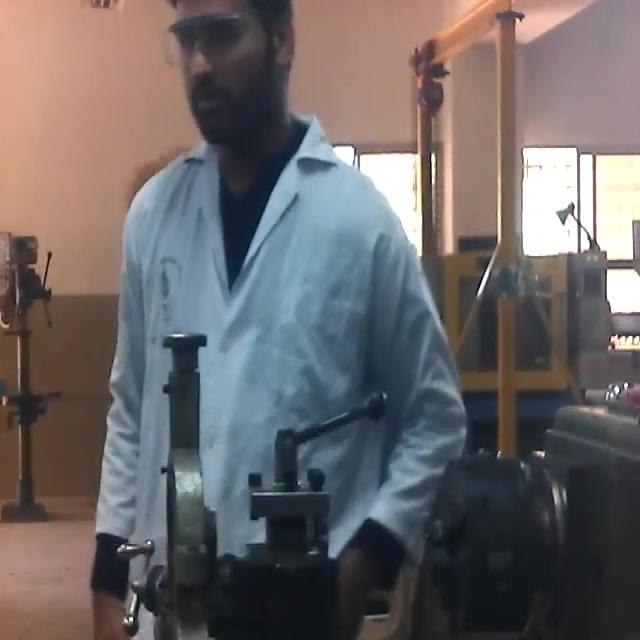googles: (161, 8, 251, 75)
labcoat: (93, 106, 468, 640)
